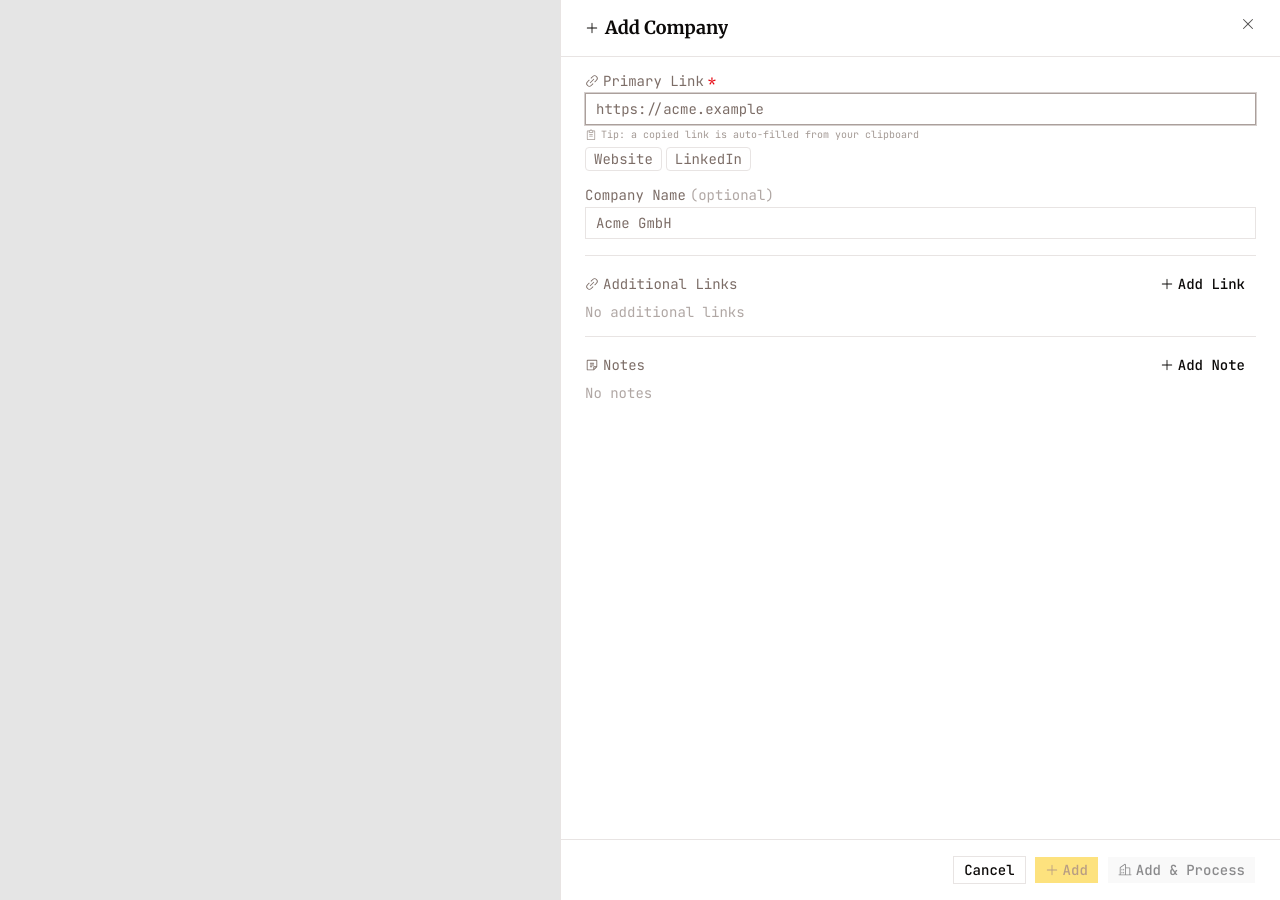
it: CreateEntityDrawer — company mode › disables the primary title preset in the additional link selector
Click the button "LinkedIn" at (708, 159), box [666, 147, 751, 171]
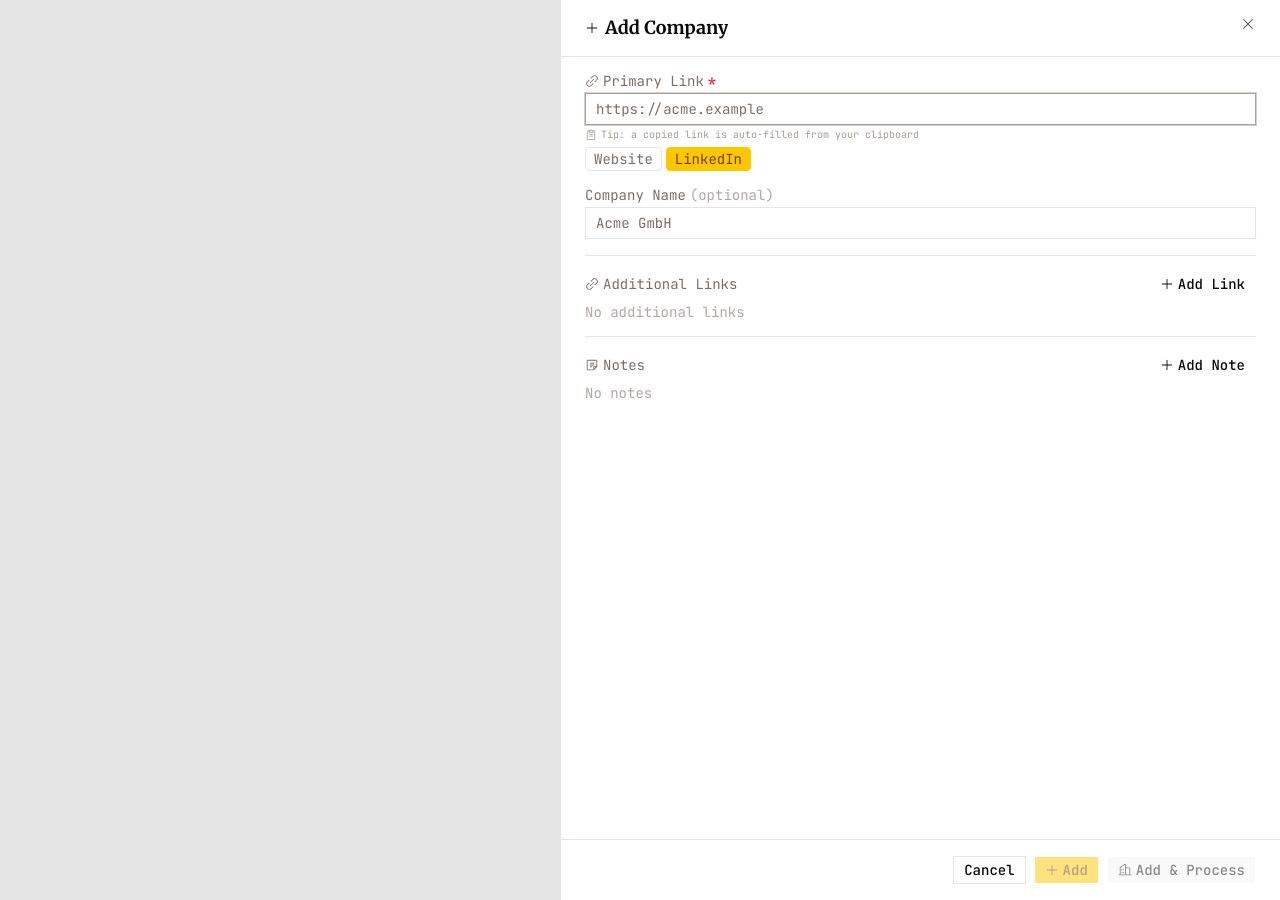
Click the button "Add Link" at (1202, 284), box [1149, 272, 1256, 296]
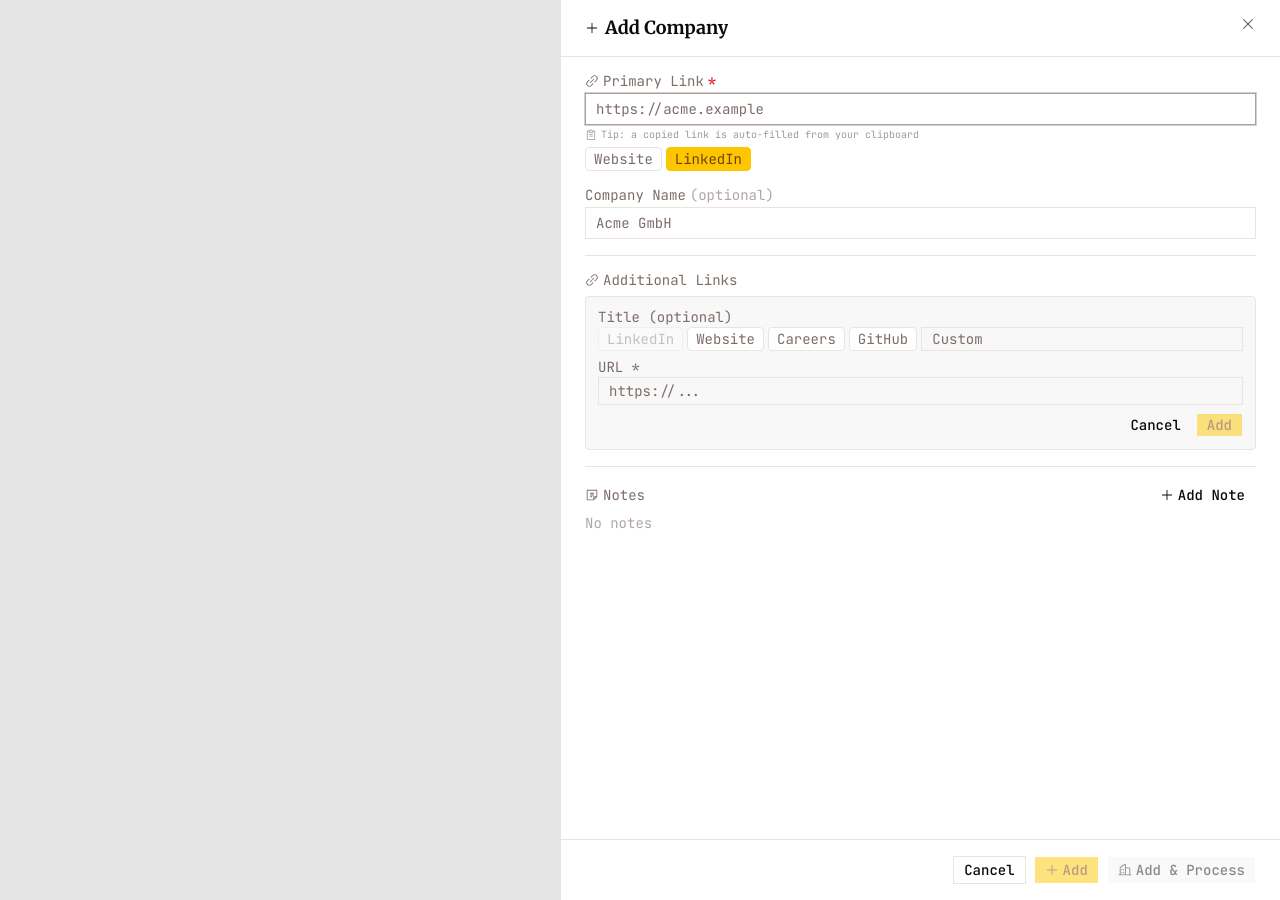
Check: the button "LinkedIn" below "Title (optional)" is shown, box [598, 327, 683, 351]
